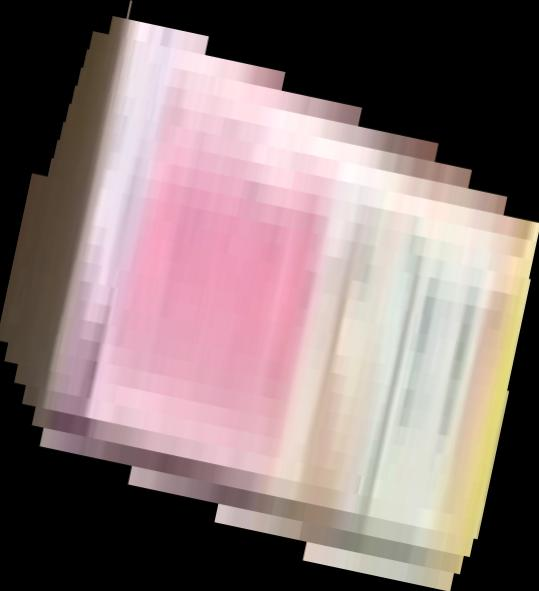flat: (1, 1, 539, 591)
